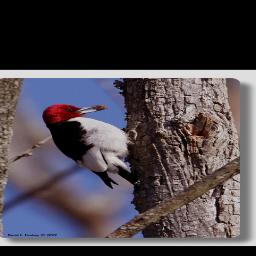Woodpecker: (42, 104, 142, 188)
